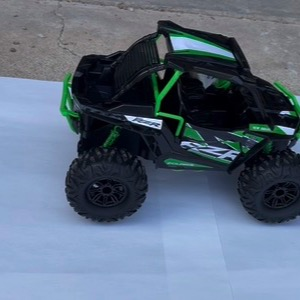polaris: (59, 20, 299, 228)
